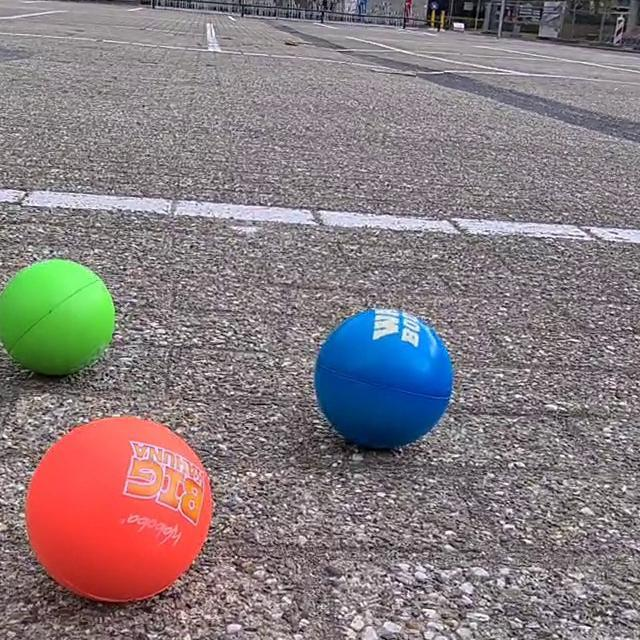ball: (22, 414, 127, 603), (315, 344, 455, 449), (0, 258, 117, 379)
